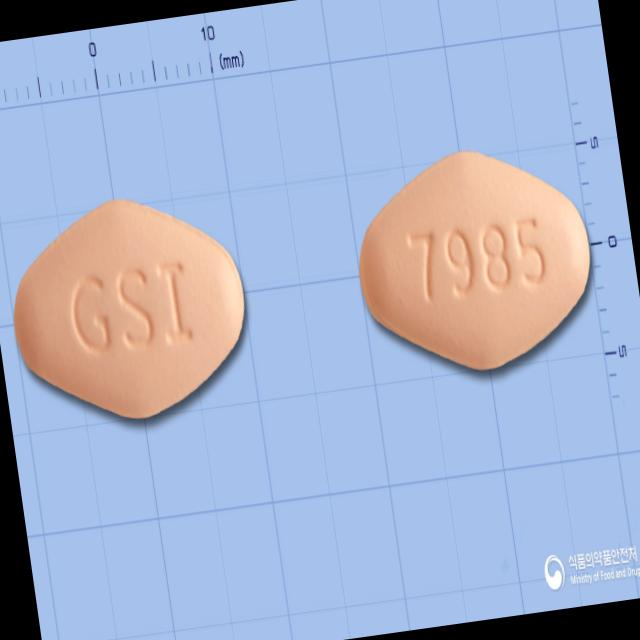Harvoni: (0, 183, 260, 436), (344, 134, 605, 386)
